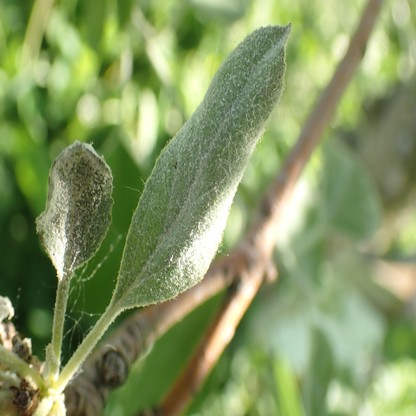powder: (115, 21, 292, 305), (34, 141, 113, 277)
